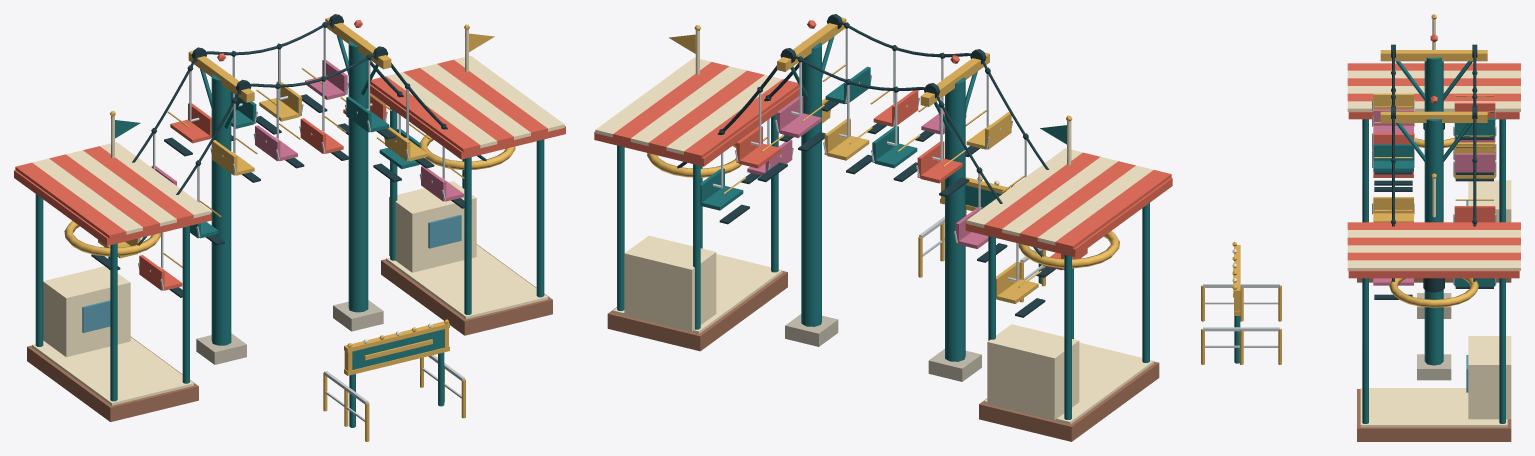
The model's file is ride_chairlift.glb.
3 renders of one model, left to right at view 1: azimuth 30°, elevation 25°; view 2: azimuth 150°, elevation 25°; view 3: azimuth 270°, elevation 25°, orthographic. The views are drawn at different scales.
Parts seen in each view (by area): view 1: ride_chairlift; view 2: ride_chairlift; view 3: ride_chairlift.
Part boxes in pixels (x1,y1,x2,y2): ride_chairlift: [14, 14, 565, 441]; ride_chairlift: [594, 14, 1172, 441]; ride_chairlift: [1201, 14, 1520, 441].
Size of the model in its own units: 11.4 by 7.14 by 7.47.
